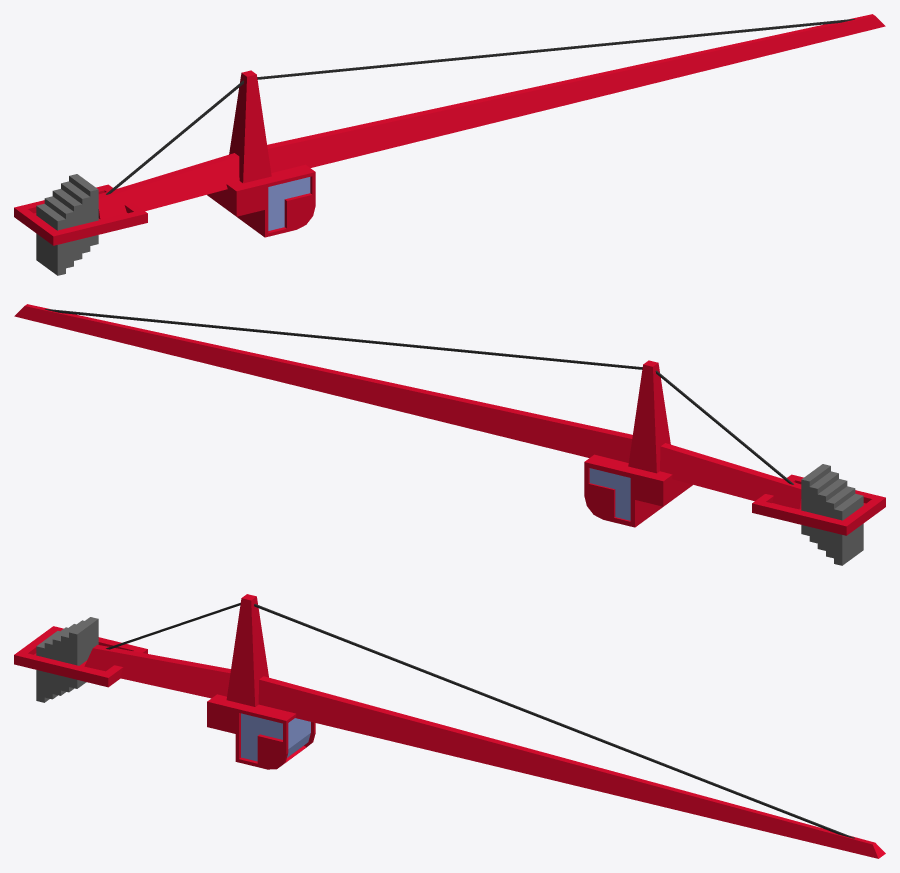
File: crane-arm.glb
The picture shows the model from 3 angles, top to bottom: view 1: azimuth 30°, elevation 25°; view 2: azimuth 150°, elevation 25°; view 3: azimuth 330°, elevation 25°; orthographic projection.
Visible parts, largest first — view 1: crane-arm; view 2: crane-arm; view 3: crane-arm.
Part boxes in pixels (bbox=[...]): crane-arm: bbox=[14, 14, 885, 275]; crane-arm: bbox=[14, 304, 885, 565]; crane-arm: bbox=[14, 594, 885, 858].
Size of the model in its own units: 53.94 by 9.32 by 4.34.
